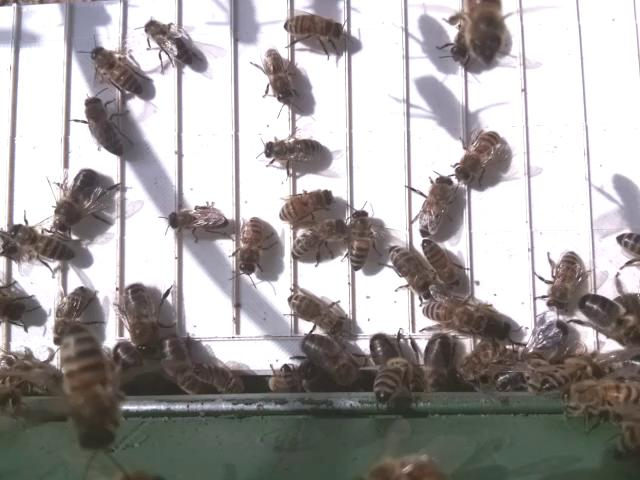Drone: (50, 166, 101, 235), (121, 279, 162, 360)
Worker: (87, 43, 143, 100), (81, 94, 126, 159), (6, 223, 79, 262), (454, 127, 502, 185), (384, 242, 434, 297), (282, 291, 348, 332), (141, 19, 197, 67), (417, 174, 457, 241), (542, 250, 583, 314), (417, 297, 486, 335), (287, 218, 344, 262), (419, 236, 461, 291), (164, 203, 228, 235), (282, 11, 345, 43), (261, 47, 294, 106), (277, 189, 334, 222), (238, 215, 267, 278), (347, 206, 374, 273), (261, 135, 323, 163)
